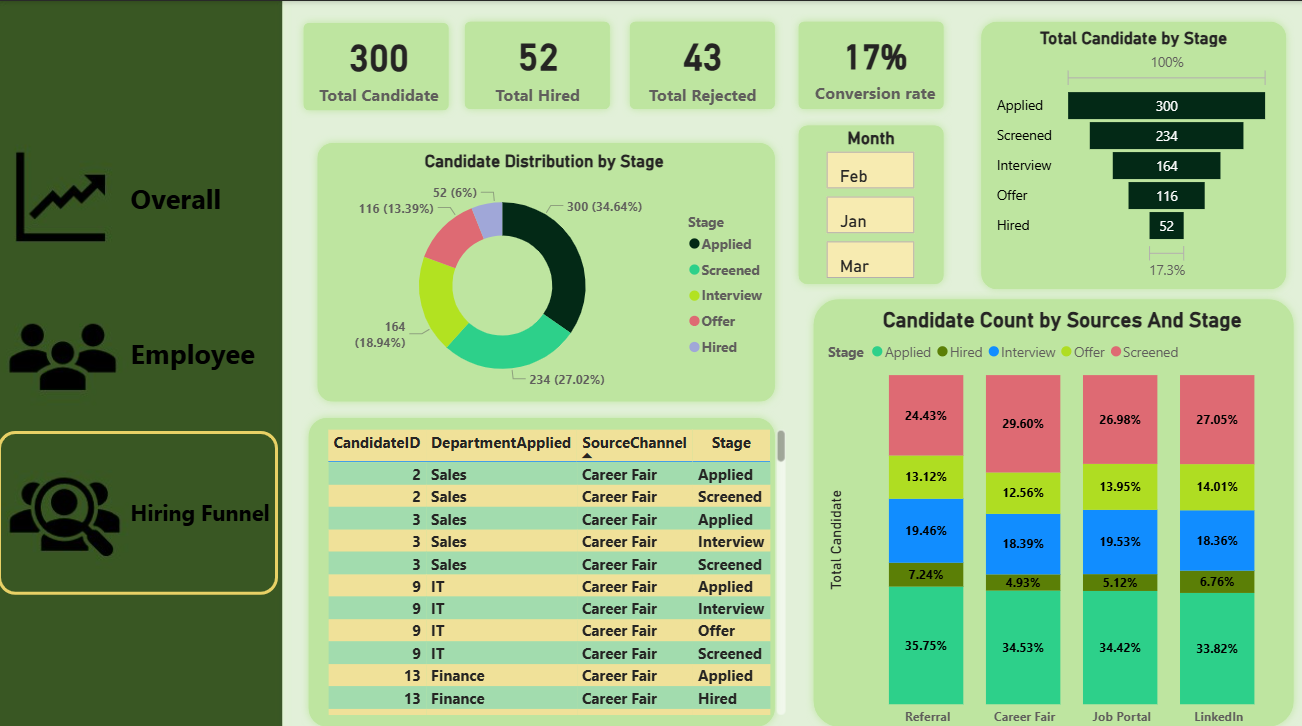

Layout of this report page (visuals, bound fields, positions):
{"tool":"powerbi","page":{"name":"Page 4","canvas":[1280,720],"ordinal":2},"visuals":[{"type":"textbox","box":[125.2,170.6,120.2,49.1],"z":0},{"type":"textbox","box":[125.2,322.7,137.4,54],"z":1000},{"type":"textbox","box":[125.2,482.2,149.7,41.7],"z":2000},{"type":"actionButton","box":[0,266.3,274.8,149.7],"z":3000},{"type":"shape","box":[792.6,284.7,487.1,435.6],"z":4000},{"type":"hundredPercentStackedColumnChart","title":"Candidate Count by Sources And Stage","fields":{"Category":["Hiring_Funnel.SourceChannel"],"Y":["Measures (2).Total Candidate"],"Series":["Hiring_Funnel.Stage"]},"box":[809.8,300.6,469.9,419.6],"z":5000},{"type":"shape","box":[305.5,131.3,465,269.9],"z":6000},{"type":"donutChart","title":"Candidate Distribution by Stage","fields":{"Y":["Measures (2).Total Candidate"],"Category":["Hiring_Funnel.Stage"]},"box":[308,147.2,456.4,245.4],"z":7000},{"type":"shape","box":[296.9,401.2,473.6,319],"z":8000},{"type":"tableEx","fields":{"Values":["Hiring_Funnel.CandidateID","Hiring_Funnel.DepartmentApplied","Hiring_Funnel.SourceChannel","Hiring_Funnel.Stage"]},"box":[317.8,416,460.1,289.6],"z":9000},{"type":"shape","box":[957.1,12.3,315.3,278.5],"z":10000},{"type":"funnel","fields":{"Category":["Hiring_Funnel.Stage"],"Y":["Measures (2).Total Candidate"]},"box":[975.5,25.8,278.5,252.8],"z":11000},{"type":"shape","box":[292,13.5,158.3,101.8],"z":12000},{"type":"shape","box":[450.3,12.3,158.3,101.8],"z":13000},{"type":"shape","box":[777.9,12.3,158.3,101.8],"z":14000},{"type":"shape","box":[612.3,12.3,158.3,101.8],"z":15000},{"type":"card","fields":{"Values":["Measures (2).Total Candidate"]},"box":[308,13.5,132.5,100.6],"z":16000},{"type":"card","fields":{"Values":["Measures (2).Total Rejected"]},"box":[616,12.3,152.1,101.8],"z":17000},{"type":"card","fields":{"Values":["Measures (2).Conversion rate"]},"box":[786.5,12.3,149.7,101.8],"z":18000},{"type":"card","fields":{"Values":["Measures (2).Total Hired"]},"box":[454,12.3,152.1,101.8],"z":19000},{"type":"shape","box":[777.9,114.1,158.3,171.8],"z":20000},{"type":"advancedSlicerVisual","fields":{"Values":["Hiring_Funnel.Month"]},"box":[808.6,123.9,96.9,154.6],"z":21000},{"type":"actionButton","box":[0,422.1,274.8,160.7],"z":22000},{"type":"actionButton","box":[0,119,274.8,147.2],"z":22001}]}

Visuals, with their boxes in screenshot pixels (x1, y1, x2, y2), scaled from the page's 1280x720 canvas onto the 1302x726 screenshot:
textbox: left=127, top=172, right=250, bottom=222
textbox: left=127, top=325, right=267, bottom=380
textbox: left=127, top=486, right=280, bottom=528
actionButton: left=0, top=269, right=280, bottom=419
shape: left=806, top=287, right=1301, bottom=725
"Candidate Count by Sources And Stage" hundredPercentStackedColumnChart: left=824, top=303, right=1301, bottom=725
shape: left=311, top=132, right=784, bottom=405
"Candidate Distribution by Stage" donutChart: left=313, top=148, right=778, bottom=396
shape: left=302, top=405, right=784, bottom=725
tableEx - Hiring_Funnel.CandidateID x Hiring_Funnel.DepartmentApplied: left=323, top=419, right=791, bottom=711
shape: left=974, top=12, right=1294, bottom=293
funnel - Hiring_Funnel.Stage x Measures (2).Total Candidate: left=992, top=26, right=1276, bottom=281
shape: left=297, top=14, right=458, bottom=116
shape: left=458, top=12, right=619, bottom=115
shape: left=791, top=12, right=952, bottom=115
shape: left=623, top=12, right=784, bottom=115
card - Measures (2).Total Candidate: left=313, top=14, right=448, bottom=115
card - Measures (2).Total Rejected: left=627, top=12, right=781, bottom=115
card - Measures (2).Conversion rate: left=800, top=12, right=952, bottom=115
card - Measures (2).Total Hired: left=462, top=12, right=617, bottom=115
shape: left=791, top=115, right=952, bottom=288
advancedSlicerVisual - Hiring_Funnel.Month: left=822, top=125, right=921, bottom=281
actionButton: left=0, top=426, right=280, bottom=588
actionButton: left=0, top=120, right=280, bottom=268
